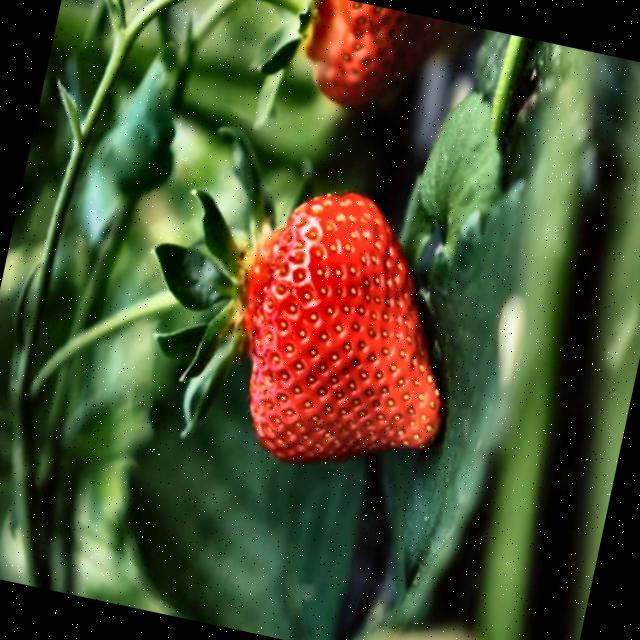strawberry: (243, 193, 441, 460), (304, 0, 443, 105)
